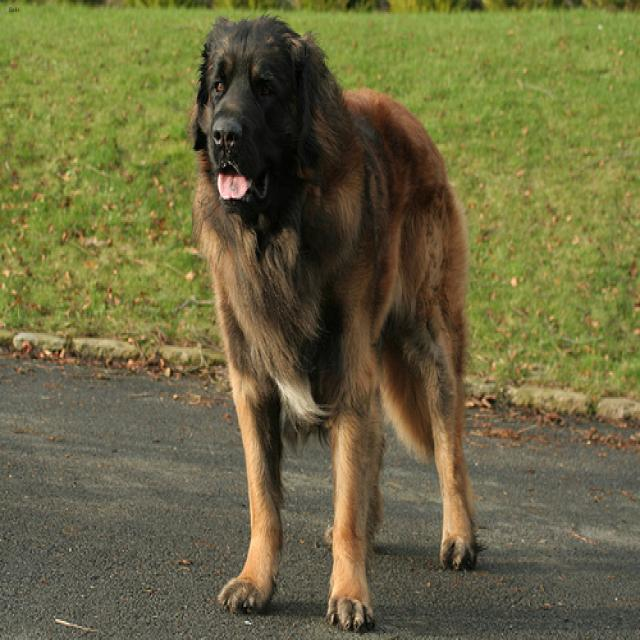dog-leonberger: (178, 5, 486, 637)
